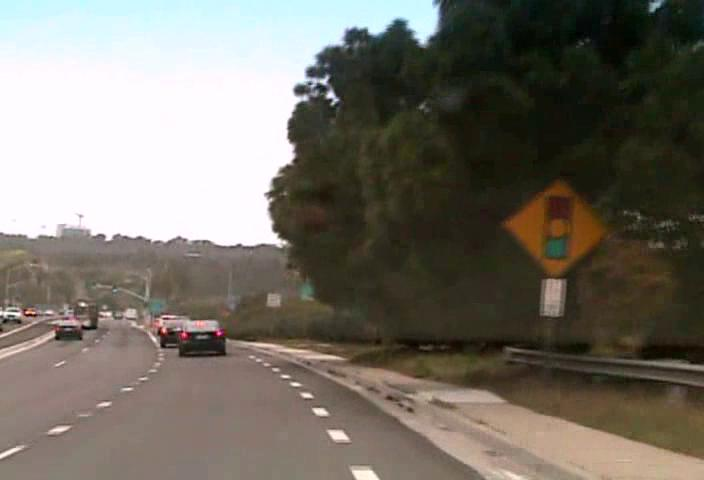signalAhead: (502, 177, 609, 278)
